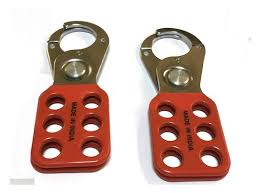hasp: (136, 26, 232, 185), (30, 19, 114, 172)
